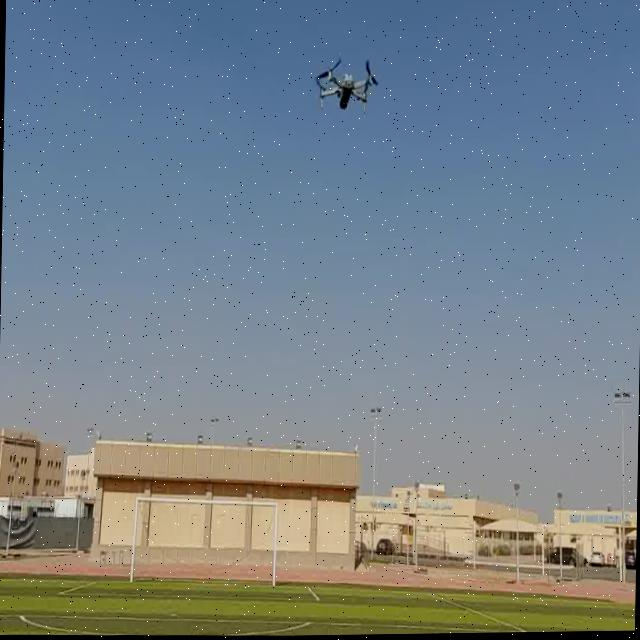drone: (309, 43, 386, 119)
